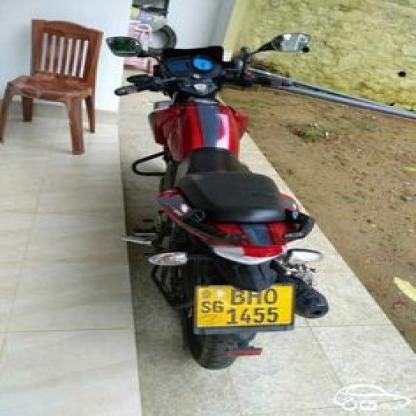bike back: (103, 32, 329, 370)
number plate: (196, 286, 290, 328)
